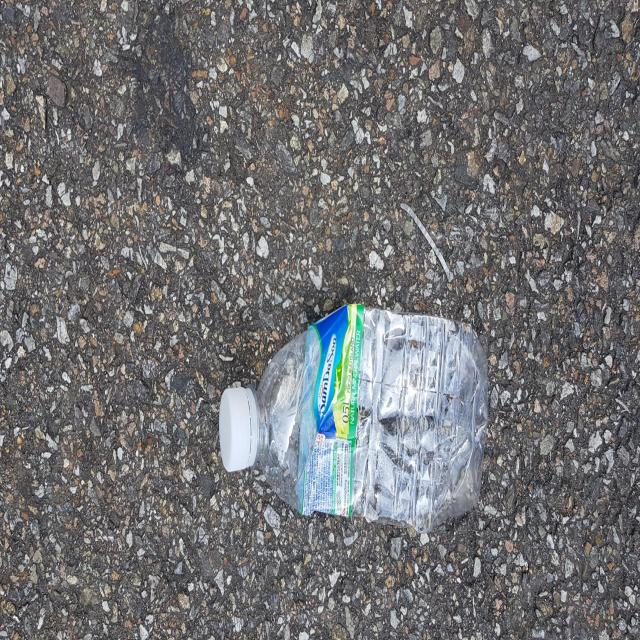plastic: (219, 303, 488, 532)
